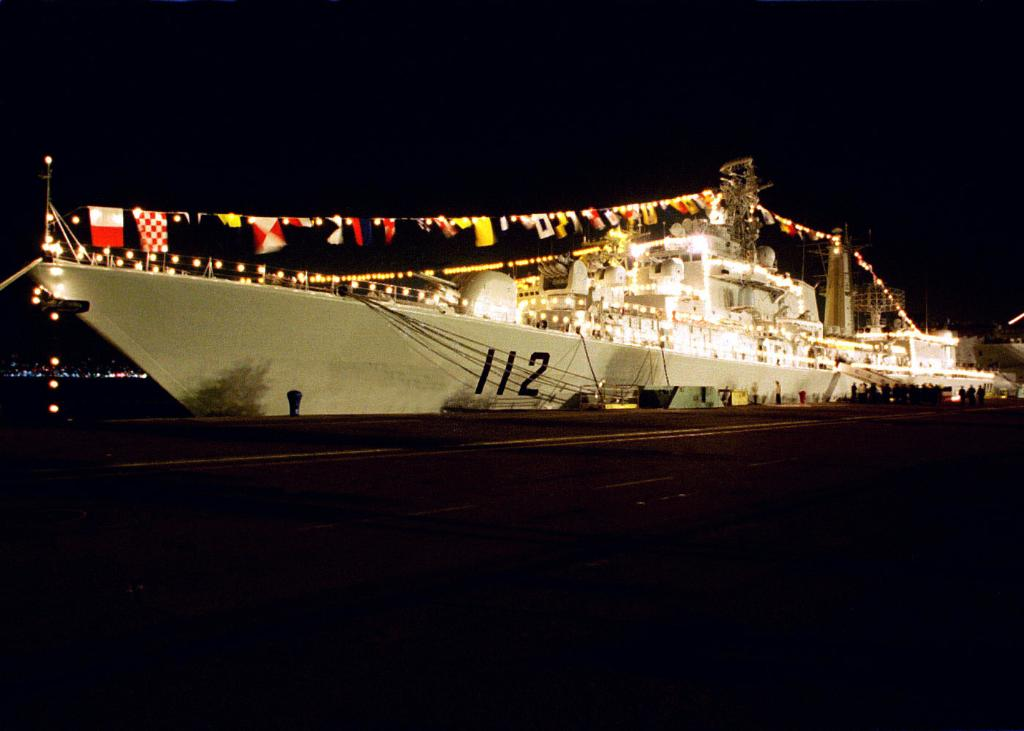Warship: (8, 98, 1024, 418)
